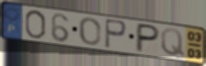6: (50, 12, 71, 44)
O: (24, 9, 48, 40), (78, 16, 102, 46)
P: (133, 22, 162, 54), (103, 17, 128, 50)
Q: (160, 27, 187, 59)
